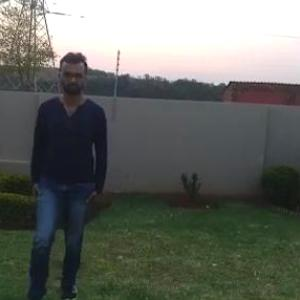follow: (37, 45, 114, 299)
